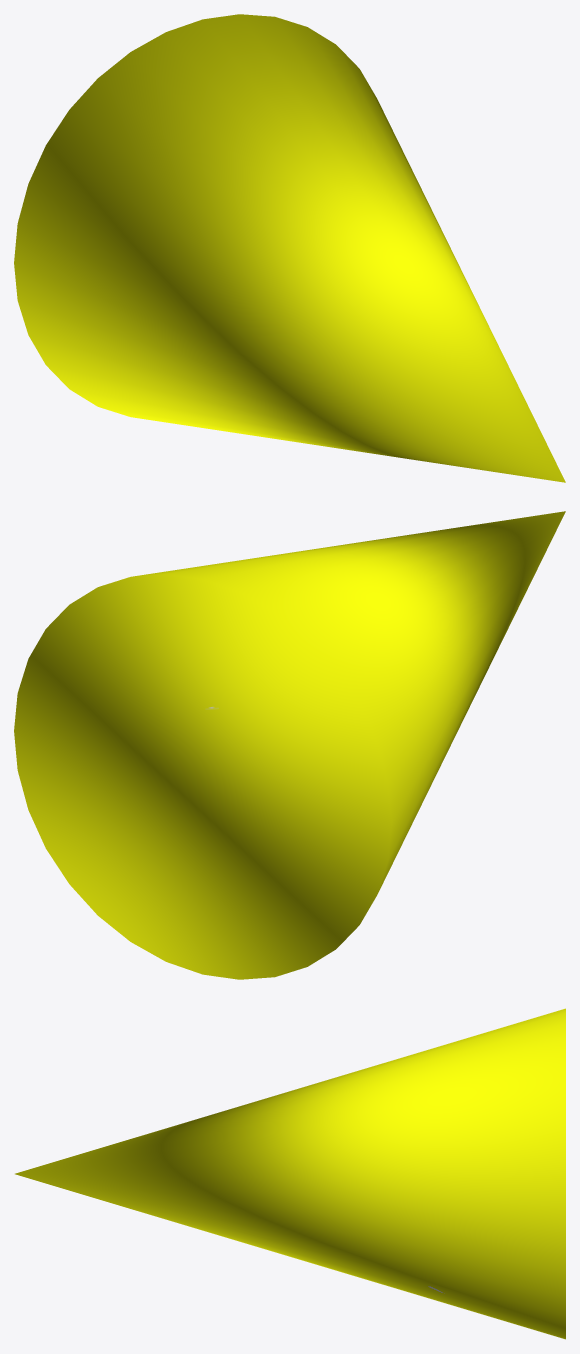
File: playerBullet.obj
3 renders of one model, top to bottom at view 1: azimuth 30°, elevation 25°; view 2: azimuth 150°, elevation 25°; view 3: azimuth 270°, elevation 25°, orthographic. The views are drawn at different scales.
Visible parts, largest first — view 1: 円錐; view 2: 円錐; view 3: 円錐.
Part boxes in pixels (x1,y1,x2,y2): 円錐: [14, 14, 565, 482]; 円錐: [14, 511, 565, 979]; 円錐: [15, 1008, 565, 1339].
Size of the model in its own units: 1.2 by 1.2 by 2.
